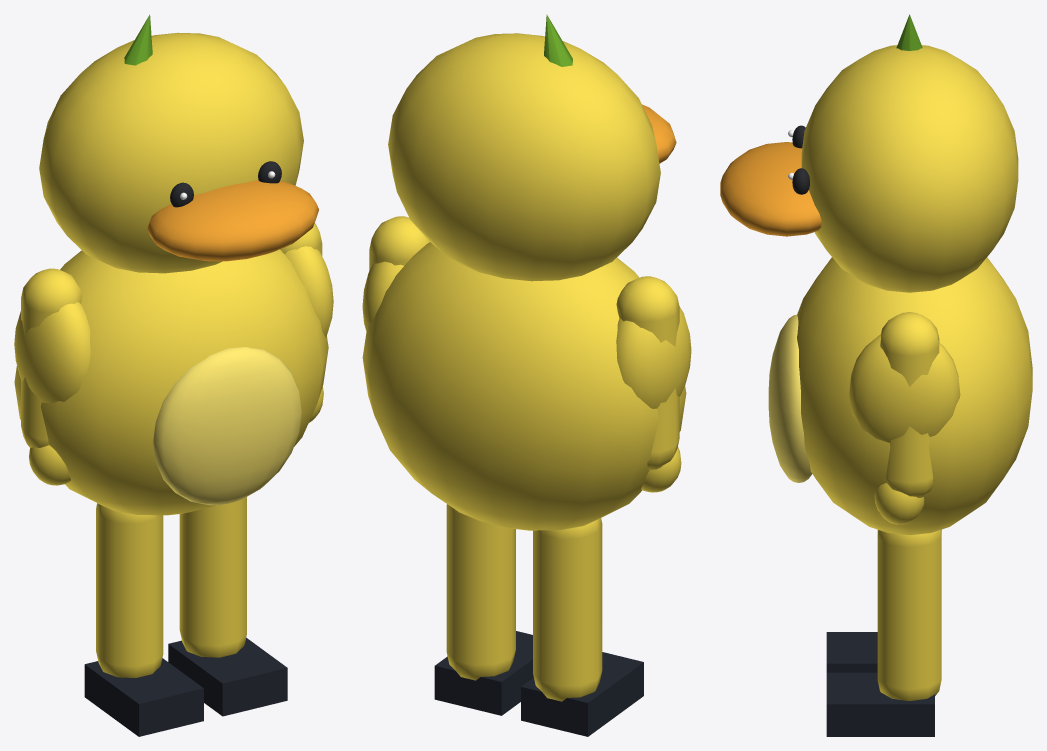
File: profile-irene.glb
3 views of the same model, side by side, from view 1: azimuth 30°, elevation 25°; view 2: azimuth 150°, elevation 25°; view 3: azimuth 270°, elevation 25° (orthographic). The views are drawn at different scales.
Visible parts, largest first — view 1: creature-head, round-body, belly, left-leg-mesh, duck-bill, right-leg-mesh, wing (×2), left-shoe, right-shoe, left-sleeve, left-hand-mesh, green-feather (+1 smaller); view 2: round-body, creature-head, left-leg-mesh, right-leg-mesh, wing (×2), left-shoe, left-sleeve, right-shoe, right-sleeve, left-hand-mesh, duck-bill, green-feather; view 3: creature-head, round-body, right-leg-mesh, wing, duck-bill, right-sleeve, right-shoe, belly, left-shoe, right-hand-mesh, green-feather.
Part boxes in pixels (x1,y1,x2,y2): creature-head: (39, 32, 303, 273); round-body: (14, 249, 328, 515); belly: (153, 347, 301, 505); left-leg-mesh: (96, 503, 163, 677); duck-bill: (147, 180, 318, 261); right-leg-mesh: (179, 497, 246, 657); wing (×2): (14, 246, 333, 403); left-shoe: (84, 658, 203, 736); right-shoe: (168, 638, 287, 716); left-sleeve: (21, 268, 82, 447); left-hand-mesh: (29, 445, 70, 485); green-feather: (124, 14, 152, 65); round-body: (362, 242, 686, 530); creature-head: (388, 33, 660, 281); left-leg-mesh: (533, 518, 602, 701); right-leg-mesh: (446, 504, 515, 680); wing (×2): (362, 261, 691, 408); left-shoe: (521, 652, 643, 736); left-sleeve: (616, 276, 679, 469); right-shoe: (434, 631, 533, 715); right-sleeve: (369, 216, 429, 270); left-hand-mesh: (641, 447, 681, 492); duck-bill: (642, 104, 676, 163); green-feather: (544, 14, 572, 66); creature-head: (801, 45, 1018, 292); round-body: (797, 257, 1032, 534); right-leg-mesh: (877, 529, 941, 701); wing: (849, 334, 960, 442); duck-bill: (720, 142, 821, 236); right-sleeve: (880, 312, 939, 497); right-shoe: (826, 672, 934, 736); belly: (768, 314, 812, 482); left-shoe: (826, 632, 877, 672); right-hand-mesh: (874, 483, 924, 524); green-feather: (896, 14, 922, 50).
Bounding box in the file's own units: 1.42 × 3.1 × 1.3.
